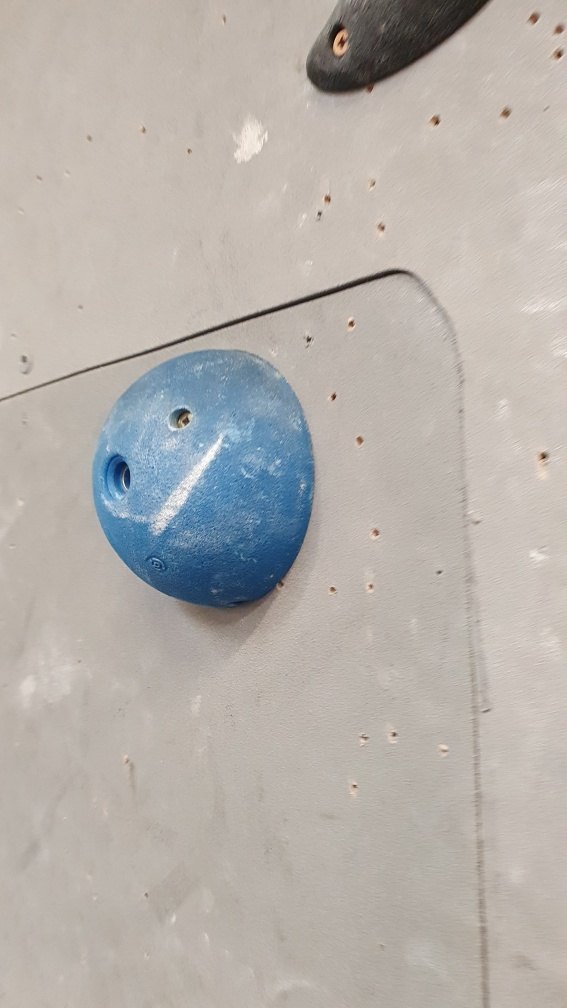Sloper: (87, 347, 321, 610)
